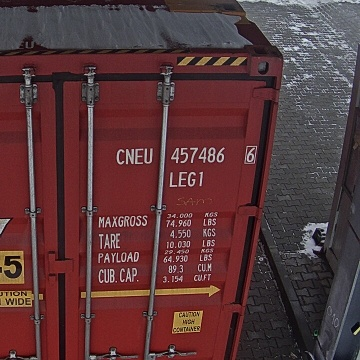serial_id: (115, 147, 254, 164)
